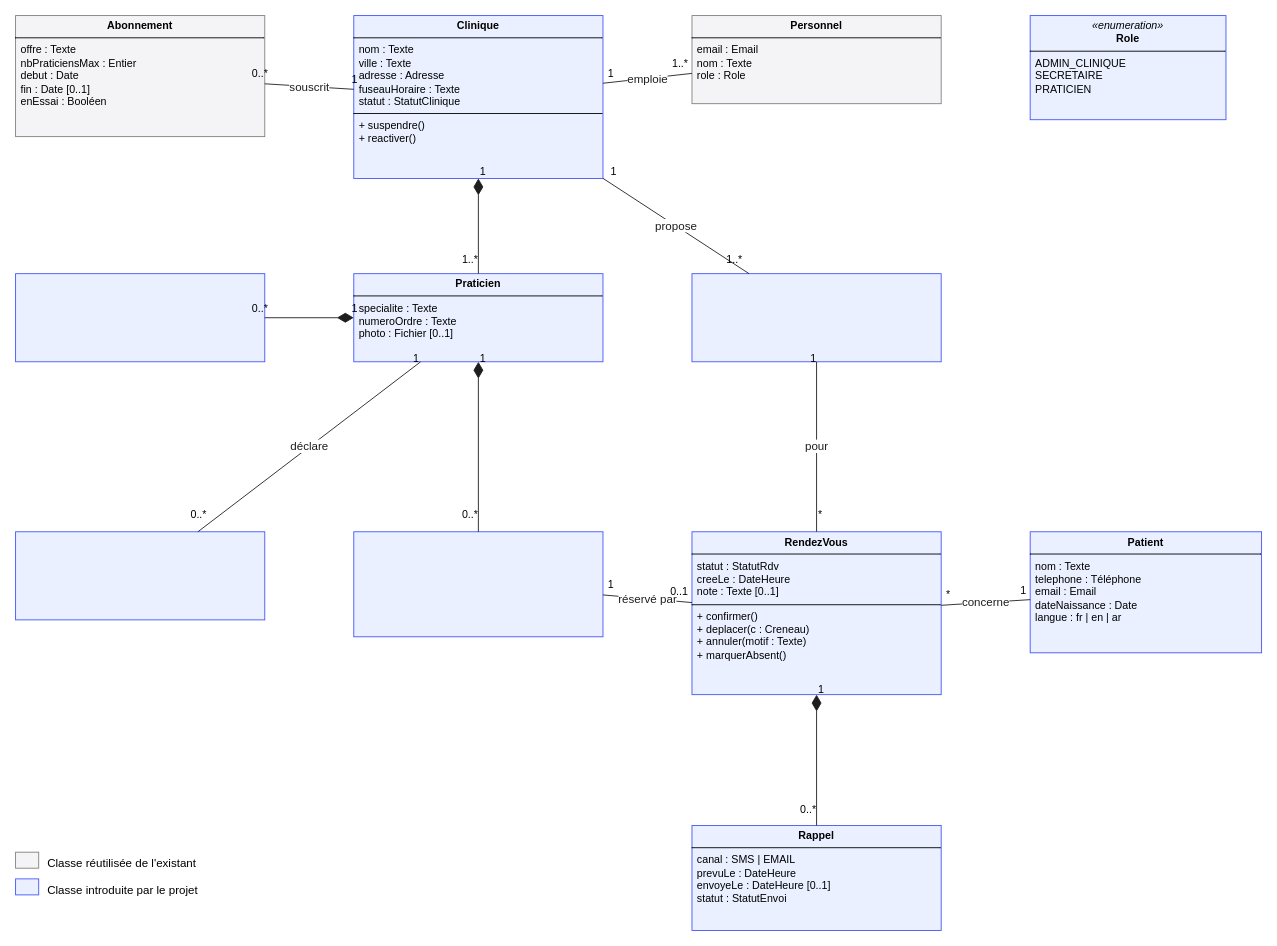
This 1277x946 diagram has some shape labels left out. Here are the shapes that lost their labels. From the top down, the centre of each, then its label:
At pixel 140 317: "PlageHoraire jour : JourSemaine debut : Heure fin : Heure".
At pixel 816 317: "MotifConsultation libelle : Texte dureeMinutes : Entier tarif : Montant [0..1]".
At pixel 140 575: "Absence debut : DateHeure fin : DateHeure motif : Texte [0..1]".
At pixel 478 584: "Creneau debut : DateHeure fin : DateHeure disponible : Booléen version : Entier".
